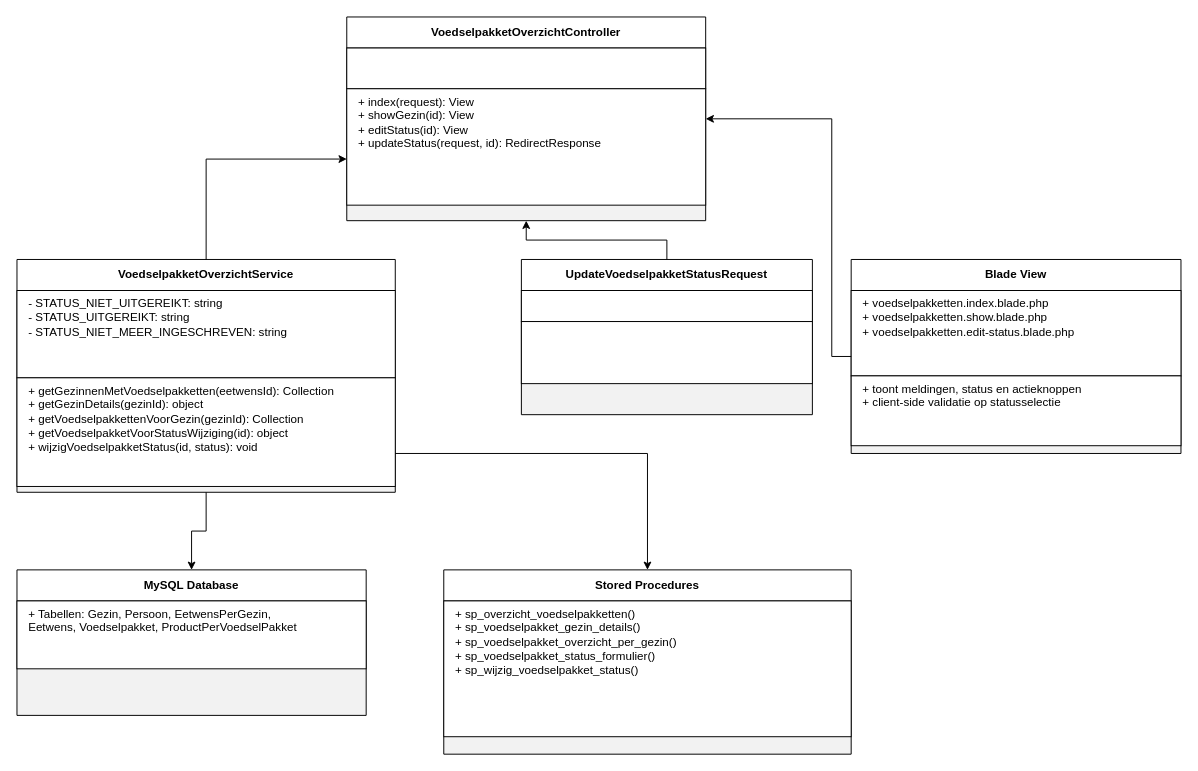
This 1198x771 diagram has some shape labels left out. The shapes that lost their labels are listed below. From the top down, each one's centre as x and y in pixels, then its label:
(x=526, y=68): + overzichtService: VoedselpakketOverzichtService
(x=666, y=306): + authorize(): bool
(x=666, y=352): + rules(): array status in [Uitgereikt, NietUitgereikt]
